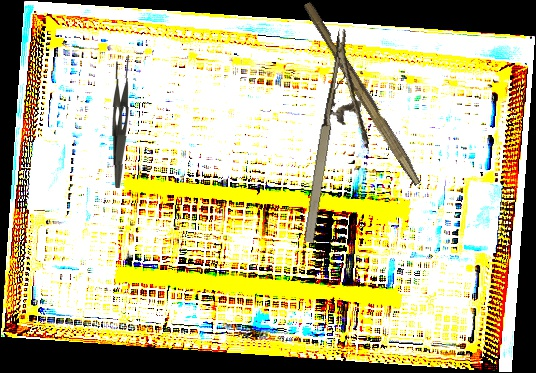Dressing Forceps: (109, 54, 136, 189)
Needle Holder: (297, 28, 390, 250)
Scalpel Handle: (298, 0, 428, 187)
